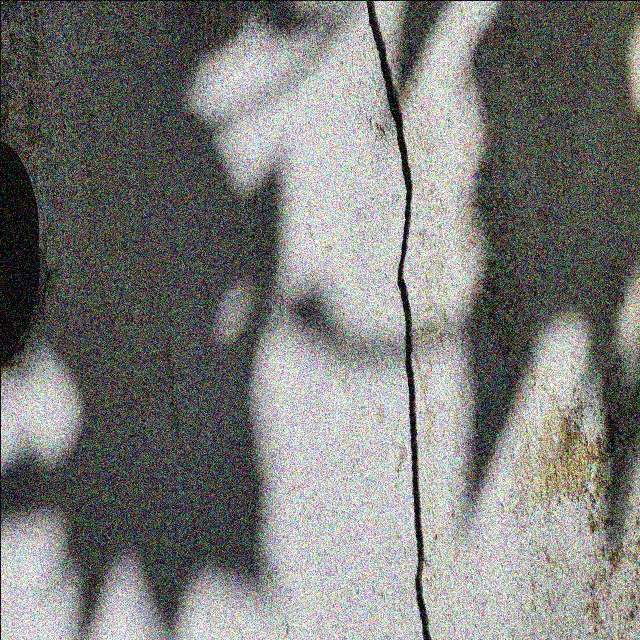SurfaceCrack: (314, 0, 483, 640), (173, 1, 337, 640), (0, 1, 140, 639)
